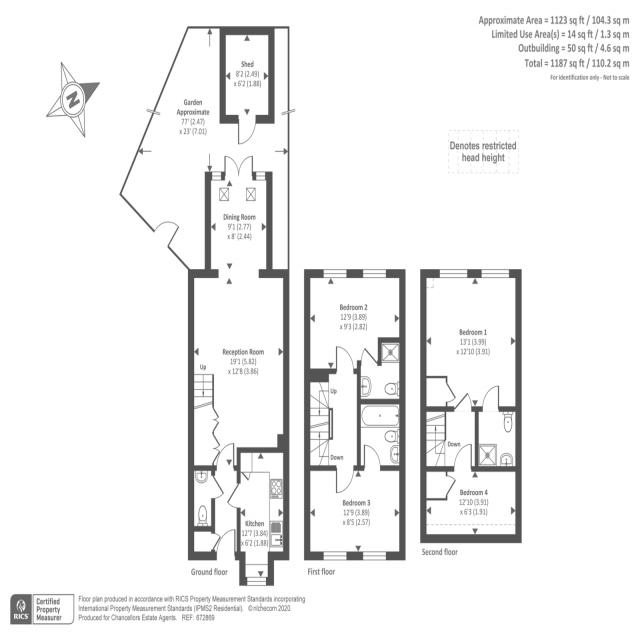DOOR: (216, 528, 236, 560), (453, 443, 472, 472), (335, 465, 354, 494), (335, 345, 354, 374), (216, 442, 235, 471), (482, 385, 500, 412), (363, 444, 381, 471), (226, 482, 241, 509), (453, 391, 472, 412), (360, 346, 378, 366), (211, 475, 225, 499)
DOUBLE DOOR: (224, 154, 253, 180)
ROOM: (188, 155, 290, 471), (420, 269, 522, 412), (304, 443, 406, 561), (304, 269, 406, 375), (420, 443, 522, 544), (226, 447, 290, 586)
WINDOW: (481, 269, 510, 279), (439, 269, 468, 278), (362, 551, 386, 561), (323, 551, 347, 561), (323, 269, 347, 279), (362, 269, 386, 279), (247, 577, 266, 586), (211, 171, 222, 181), (256, 171, 266, 181)
